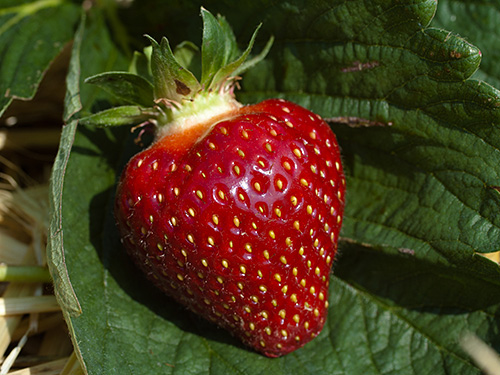ripe: (114, 91, 341, 359)
